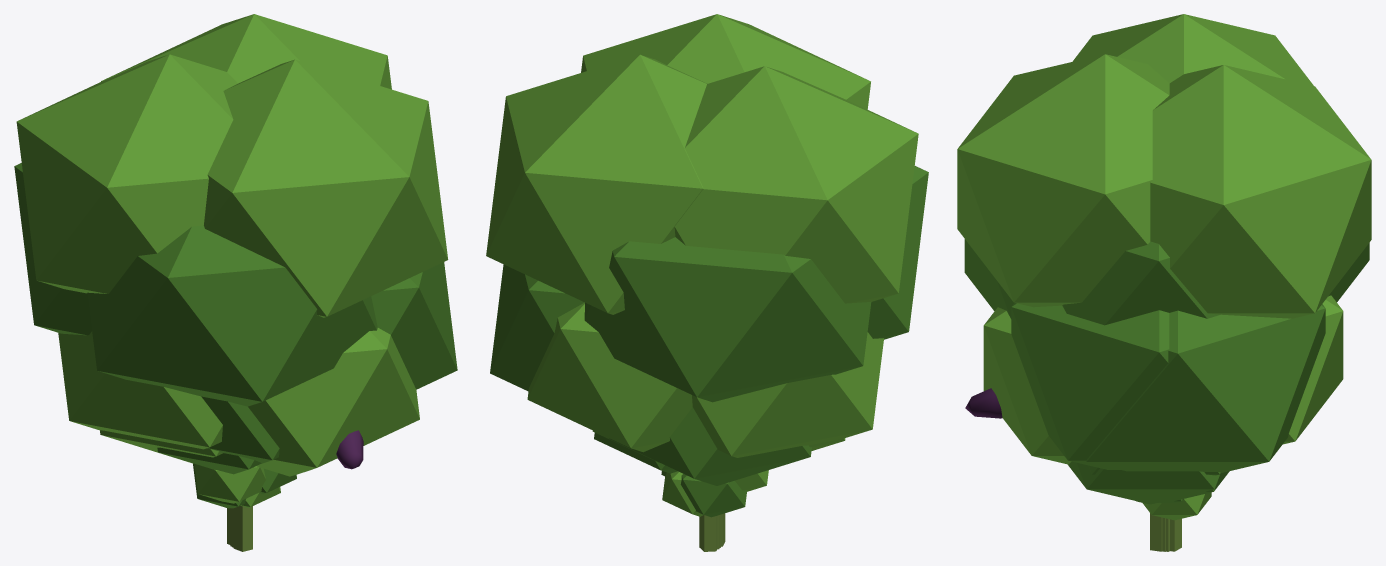
Rendered from Crop_Veg_Eggplant.fbx.
3 renders of one model, left to right at view 1: azimuth 30°, elevation 25°; view 2: azimuth 150°, elevation 25°; view 3: azimuth 270°, elevation 25°, orthographic.
Parts seen in each view (by area): view 1: Crop_Veg_Eggplant__S4, Crop_Veg_Eggplant__S3, Crop_Veg_Eggplant__S1, Crop_Veg_Eggplant__S5, Crop_Veg_Eggplant__S2; view 2: Crop_Veg_Eggplant__S4, Crop_Veg_Eggplant__S3, Crop_Veg_Eggplant__S5, Crop_Veg_Eggplant__S1, Crop_Veg_Eggplant__S2; view 3: Crop_Veg_Eggplant__S4, Crop_Veg_Eggplant__S3, Crop_Veg_Eggplant__S5, Crop_Veg_Eggplant__S1.
Part boxes in pixels (x1=…): Crop_Veg_Eggplant__S4: x1=14, y1=14, x2=457, y2=544; Crop_Veg_Eggplant__S3: x1=58, y1=328, x2=419, y2=546; Crop_Veg_Eggplant__S1: x1=193, y1=463, x2=296, y2=551; Crop_Veg_Eggplant__S5: x1=100, y1=396, x2=310, y2=474; Crop_Veg_Eggplant__S2: x1=157, y1=447, x2=261, y2=547; Crop_Veg_Eggplant__S4: x1=486, y1=14, x2=928, y2=551; Crop_Veg_Eggplant__S3: x1=527, y1=302, x2=883, y2=549; Crop_Veg_Eggplant__S5: x1=609, y1=407, x2=845, y2=485; Crop_Veg_Eggplant__S1: x1=661, y1=470, x2=768, y2=546; Crop_Veg_Eggplant__S2: x1=592, y1=430, x2=721, y2=547; Crop_Veg_Eggplant__S4: x1=957, y1=14, x2=1371, y2=551; Crop_Veg_Eggplant__S3: x1=983, y1=241, x2=1343, y2=464; Crop_Veg_Eggplant__S5: x1=1067, y1=461, x2=1227, y2=551; Crop_Veg_Eggplant__S1: x1=1136, y1=492, x2=1211, y2=551.
Size of the model in its own units: 0.2196 by 0.2698 by 0.2002.
